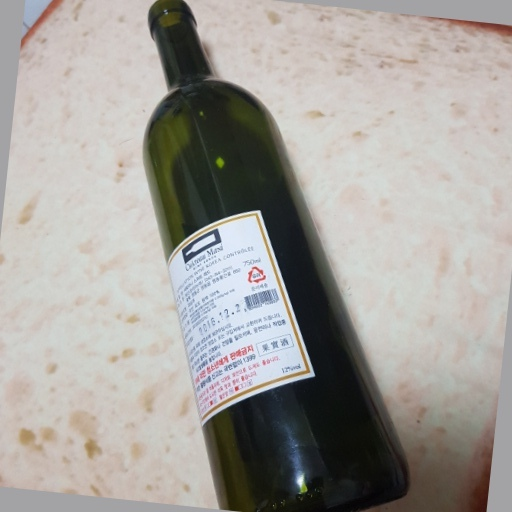Glass_2: (136, 1, 410, 512)
